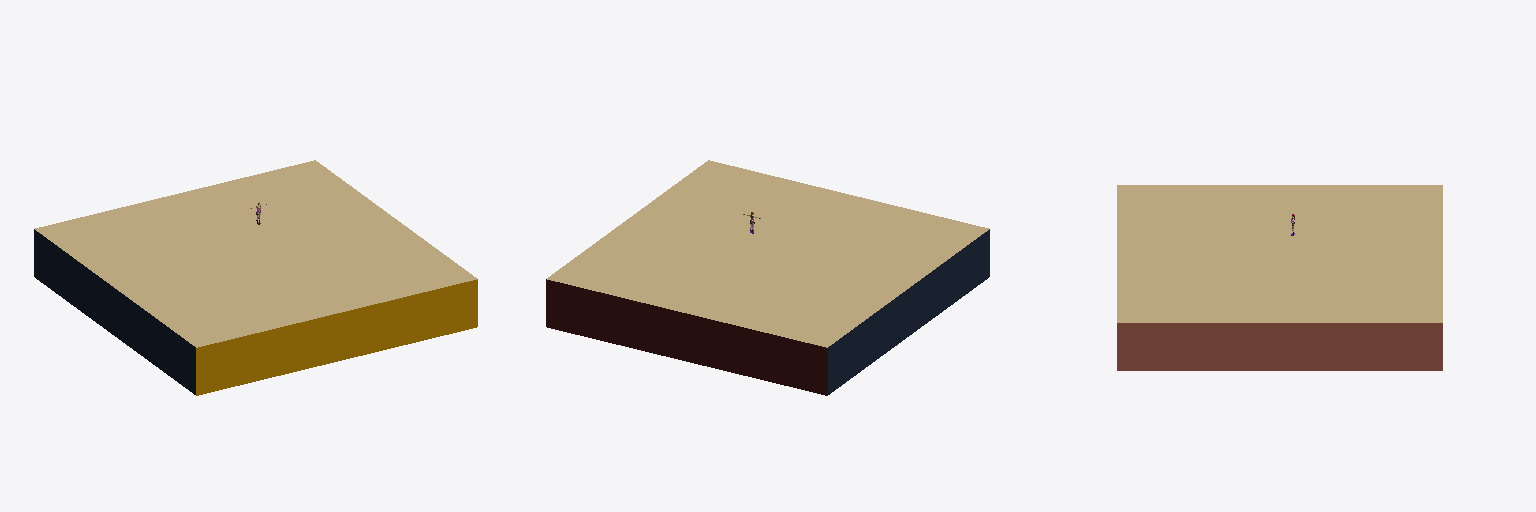
The model's file is toy_doll.obj.
3 views of the same model, side by side, from view 1: azimuth 30°, elevation 25°; view 2: azimuth 150°, elevation 25°; view 3: azimuth 270°, elevation 25° (orthographic).
Visible parts, largest first — view 1: Mesh121 floor1 RAGDOLL1 Model; view 2: Mesh121 floor1 RAGDOLL1 Model; view 3: Mesh121 floor1 RAGDOLL1 Model.
Part boxes in pixels (x1,y1,x2,y2): Mesh121 floor1 RAGDOLL1 Model: (34, 160, 477, 395); Mesh121 floor1 RAGDOLL1 Model: (546, 160, 989, 395); Mesh121 floor1 RAGDOLL1 Model: (1117, 185, 1442, 370).
Size of the model in its own units: 1000 by 313 by 1000.